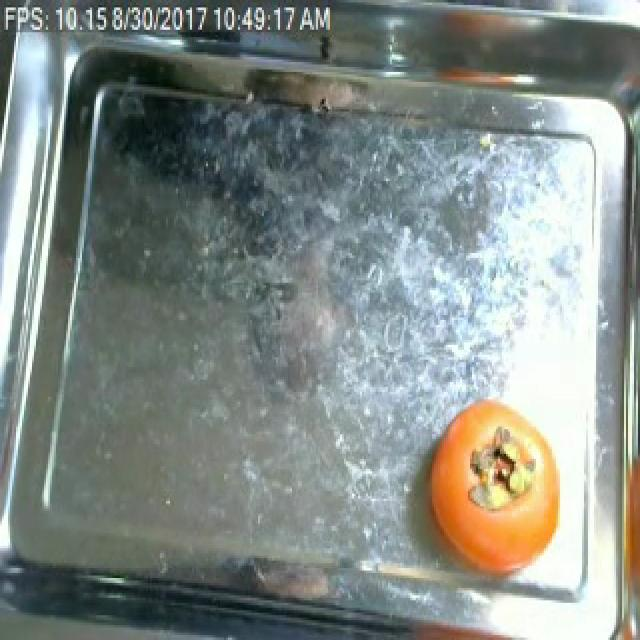Fruit: (420, 392, 568, 585), (384, 608, 572, 640)
